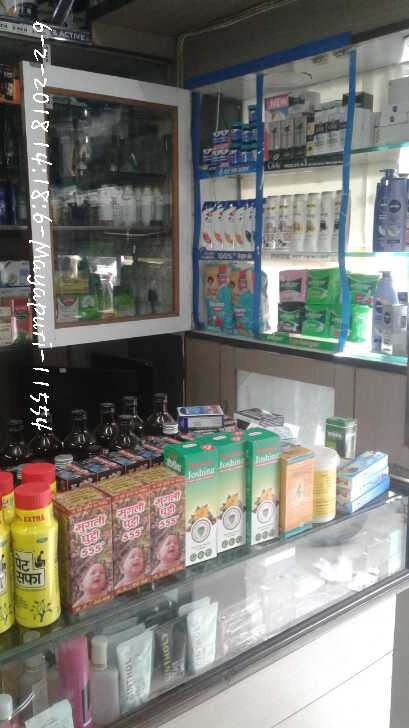vicks: (200, 107, 257, 174)
